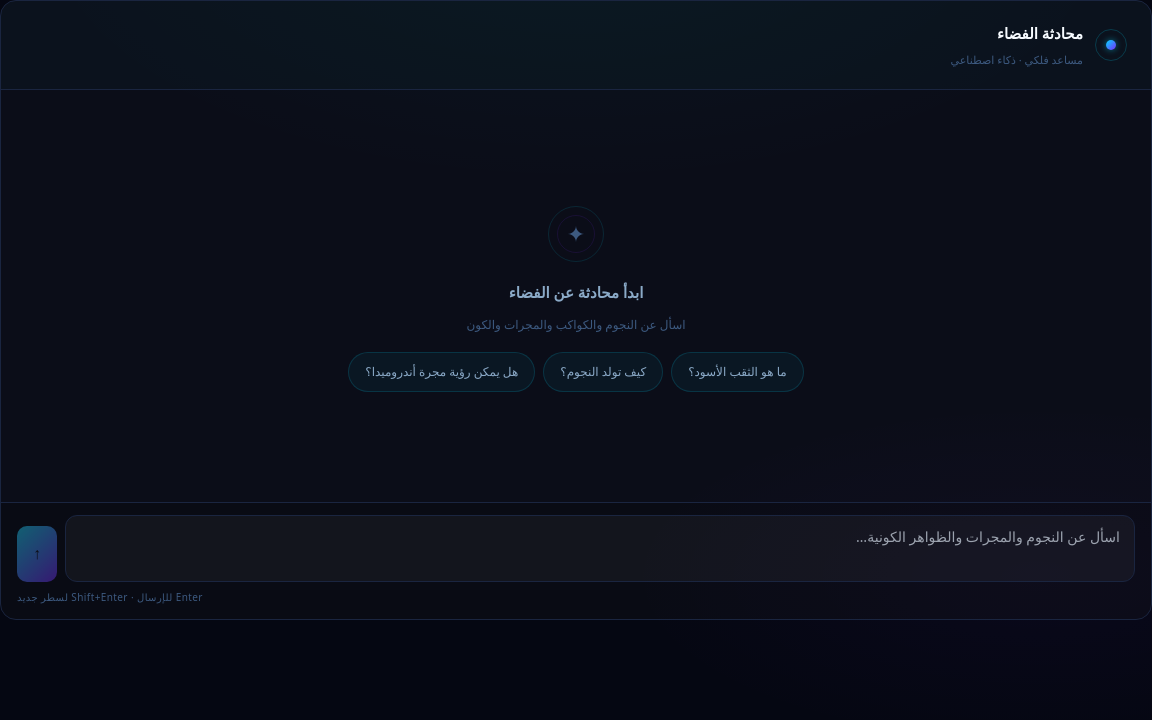
Scenario: SpaceChat › sends message on send button click
In the text box with test id "chat-input": [600, 548] box [65,515,1135,582], type "ما هو المريخ؟"
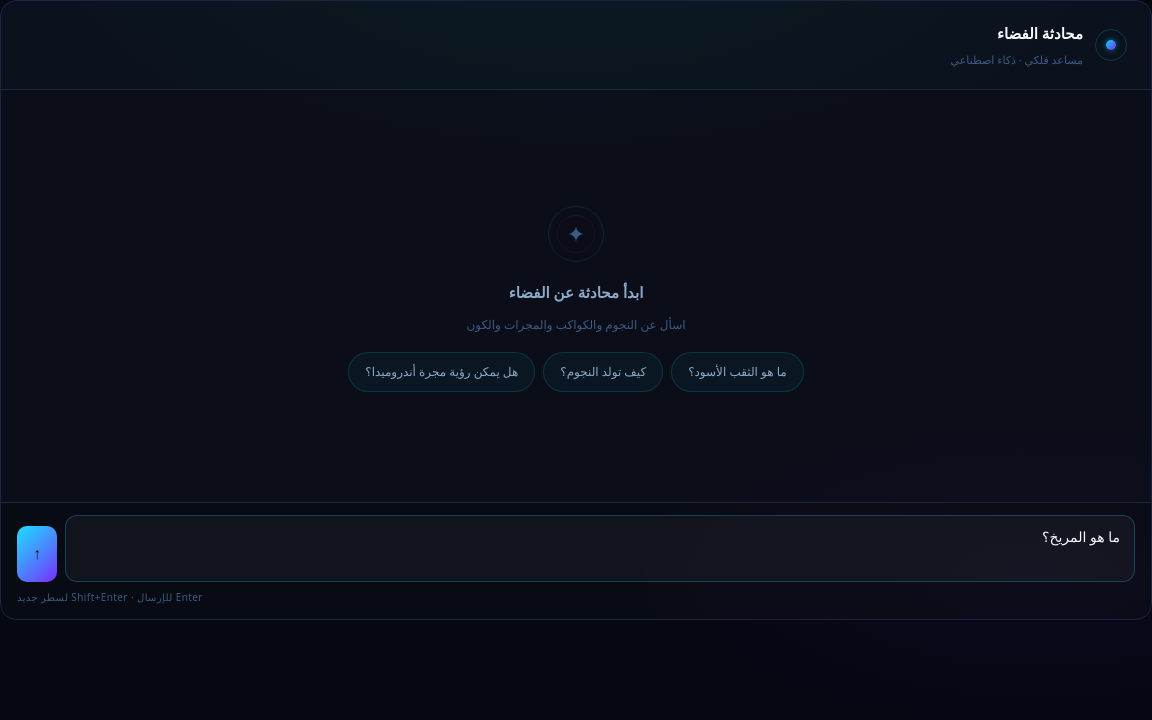
Click the button with test id "chat-send": [37, 554] box [17,526,57,582]
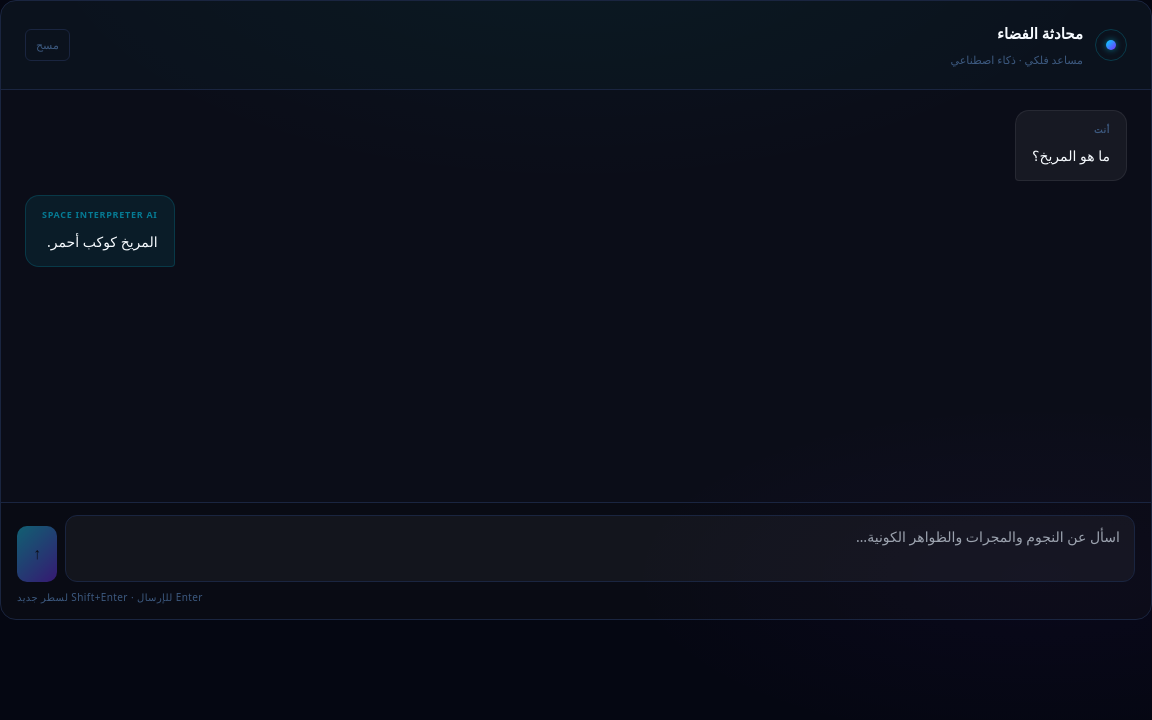
Expected: the text "المريخ كوكب أحمر." is shown, [47,232,158,251]
